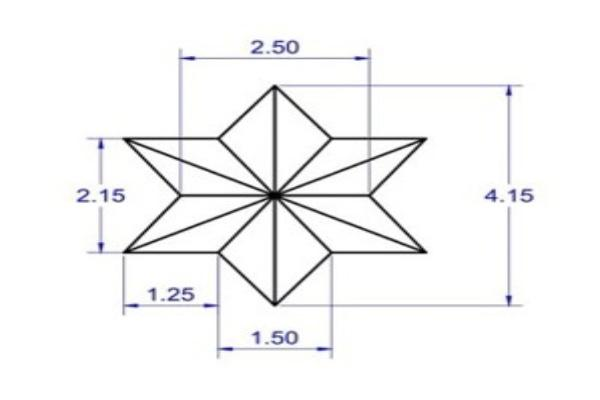dimensions: (69, 184, 132, 206), (244, 34, 304, 57), (250, 326, 304, 351), (143, 283, 202, 304), (481, 184, 540, 204)
